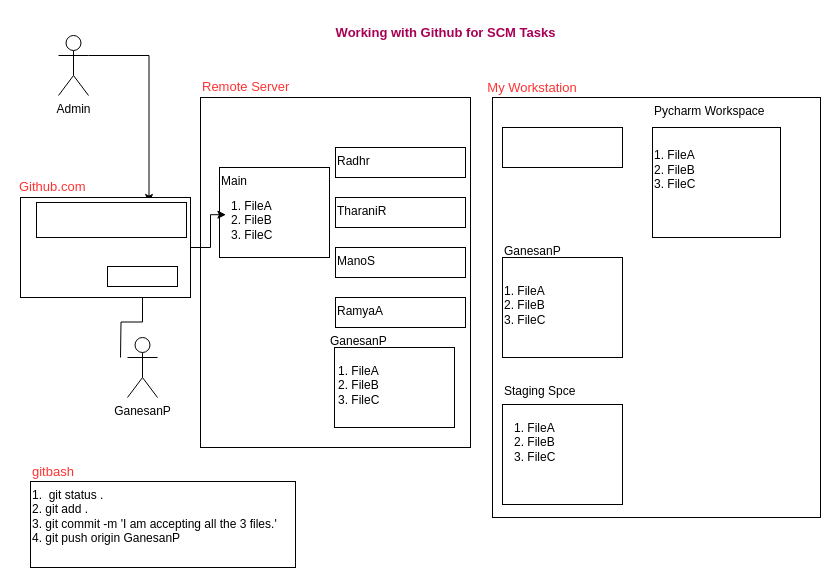
This 838x585 diagram has some shape labels left out. The centre of each missing label's shape, as x and y in pixels:
1. Approve Merge Request 2. Merge Request: the point at 111,220
Create: the point at 142,276
main branch: the point at 562,147
